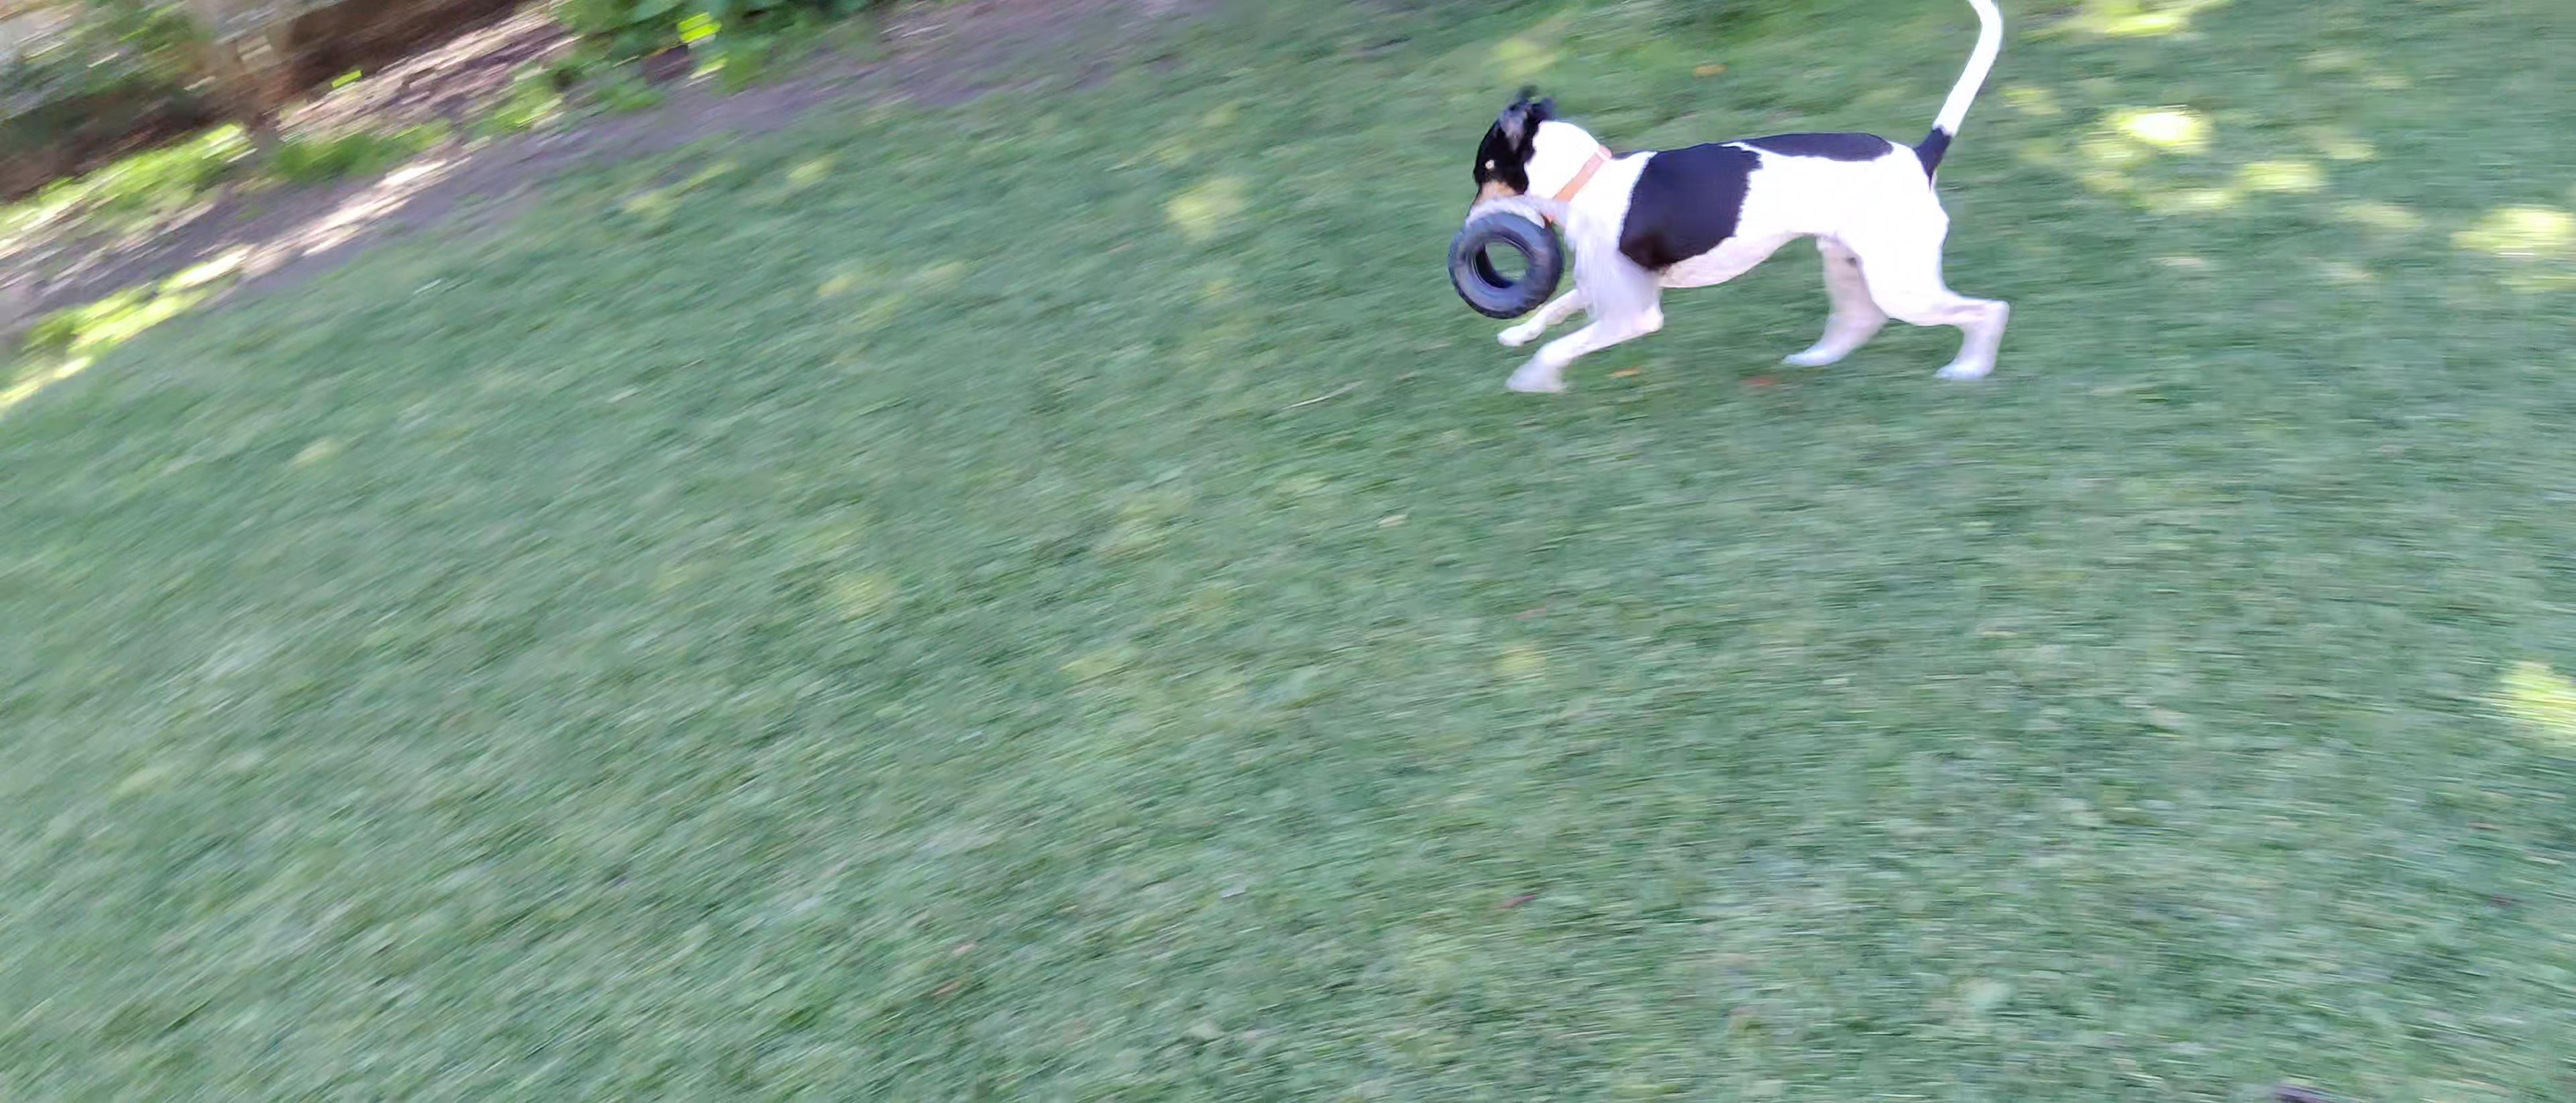Dog: (1442, 0, 2031, 396)
